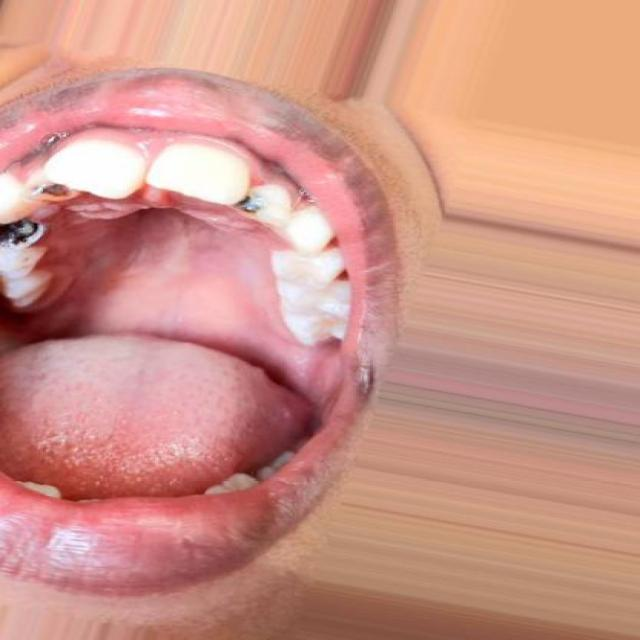caries: (218, 180, 296, 228), (0, 206, 65, 259), (26, 170, 103, 214)
